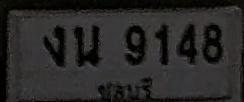1: (154, 24, 168, 65)
4: (178, 23, 196, 64)
8: (202, 23, 223, 63)
9: (124, 24, 146, 64)
A07: (43, 26, 65, 66)
A25: (74, 24, 100, 66)
